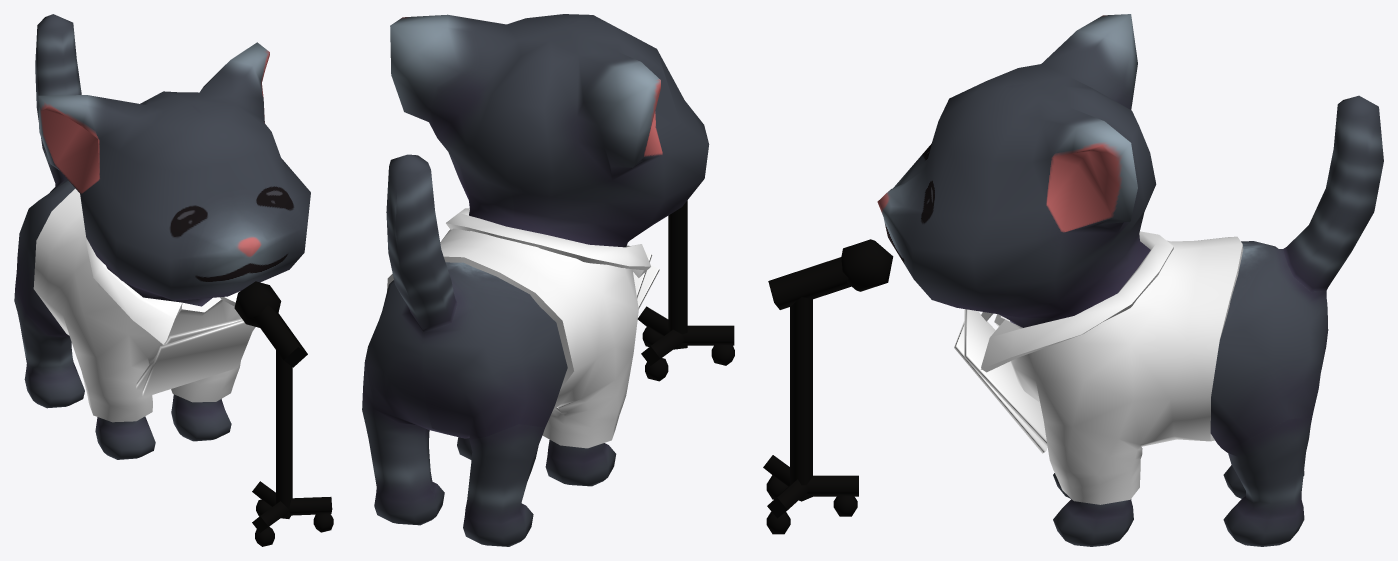
File: Press Cat04.fbx
3 views of the same model, side by side, from view 1: azimuth 30°, elevation 25°; view 2: azimuth 150°, elevation 25°; view 3: azimuth 270°, elevation 25° (orthographic). The views are drawn at different scales.
Parts seen in each view (by area): view 1: Cat_Base003, Press_Cat_Shirt, Press_Cat_Mic, Press_Cat_Script; view 2: Cat_Base003, Press_Cat_Shirt, Press_Cat_Mic, Press_Cat_Script; view 3: Cat_Base003, Press_Cat_Shirt, Press_Cat_Mic, Press_Cat_Script.
Boxes of the visible parts, x1=… form: Cat_Base003: x1=14, y1=14, x2=310, y2=459; Press_Cat_Shirt: x1=33, y1=188, x2=241, y2=422; Press_Cat_Mic: x1=234, y1=281, x2=333, y2=546; Press_Cat_Script: x1=136, y1=318, x2=255, y2=397; Cat_Base003: x1=362, y1=14, x2=709, y2=546; Press_Cat_Shirt: x1=387, y1=208, x2=650, y2=448; Press_Cat_Mic: x1=637, y1=200, x2=734, y2=381; Press_Cat_Script: x1=633, y1=252, x2=659, y2=309; Cat_Base003: x1=877, y1=14, x2=1383, y2=546; Press_Cat_Shirt: x1=981, y1=231, x2=1243, y2=504; Press_Cat_Mic: x1=763, y1=239, x2=893, y2=534; Press_Cat_Script: x1=954, y1=309, x2=1047, y2=453.
Bounding box in the file's own units: 1.75 × 3.47 × 2.68.
Materials: 3 (1 with a texture image).
